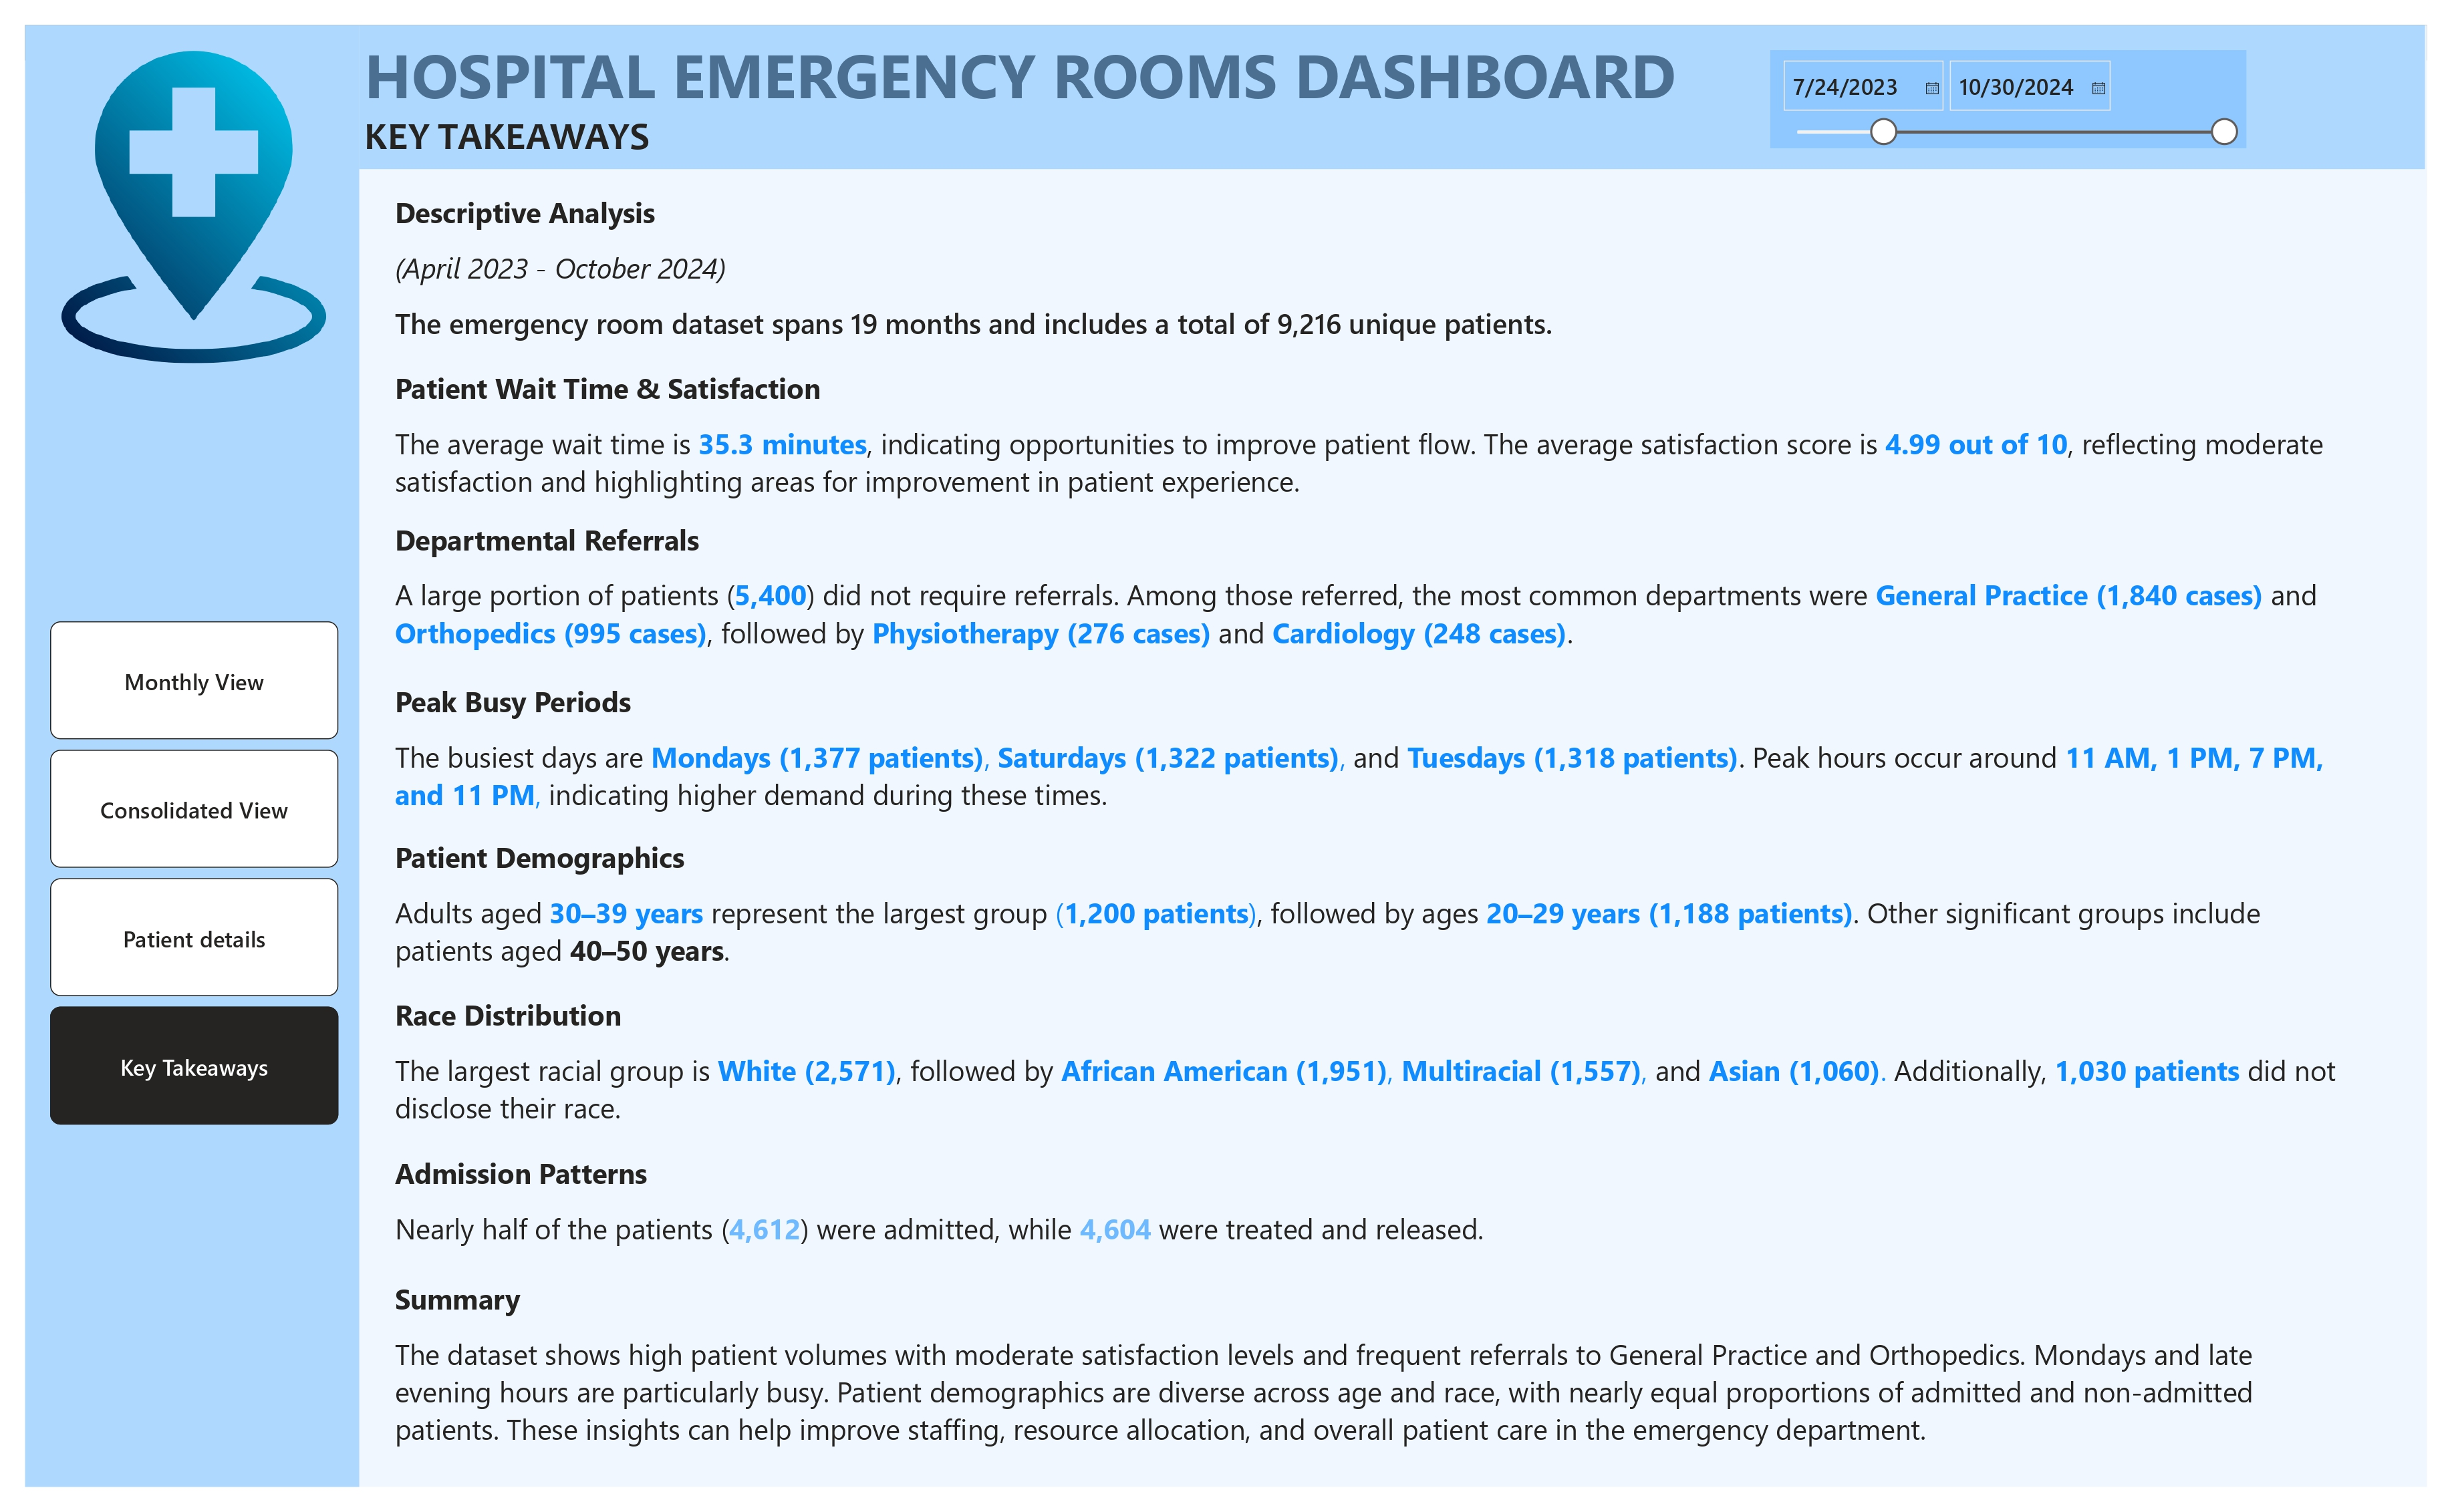

The page's visual inventory and layout, read from the dashboard file:
{"tool":"powerbi","page":{"name":"Key Takeaways","canvas":[2300,1400],"ordinal":3},"visuals":[{"type":"shape","box":[0,0,320,1400],"z":0},{"type":"textbox","box":[319.7,2.1,1289.2,137.9],"z":1000},{"type":"shape","box":[320,0,1977.8,137.8],"z":2000},{"type":"textbox","box":[320,77.8,397.8,62.2],"z":3000},{"type":"slicer","fields":{"Values":["Data Table.Date"]},"box":[1671.1,24.4,455.6,93.3],"z":4000},{"type":"image","box":[11.1,24.4,300,300],"z":5000},{"type":"textbox","box":[348.9,155.6,1871.1,168.9],"z":6000},{"type":"textbox","box":[348.9,324.4,1871.1,144.4],"z":7000},{"type":"textbox","box":[348.9,468.9,1871.1,140],"z":8000},{"type":"textbox","box":[348.9,624.4,1871.1,148.9],"z":9000},{"type":"textbox","box":[348.9,773.3,1871.1,151.1],"z":10000},{"type":"textbox","box":[348.9,924.4,1871.1,151.1],"z":11000},{"type":"textbox","box":[348.9,1075.6,1871.1,120],"z":12000},{"type":"textbox","box":[348.9,1195.6,1871.1,204.4],"z":13000},{"type":"pageNavigator","box":[24.4,571.1,275.6,482.2],"z":14000}]}

Visuals, with their boxes on the page's 2300x1400 design canvas (x1, y1, x2, y2). These are canvas units, not pixel positions in the 2452x1512 screenshot, which may show the page scaled, cropped or inside an application window:
shape: <box>0,0,320,1400</box>
textbox: <box>320,2,1609,140</box>
shape: <box>320,0,2298,138</box>
textbox: <box>320,78,718,140</box>
slicer - Data Table.Date: <box>1671,24,2127,118</box>
image: <box>11,24,311,324</box>
textbox: <box>349,156,2220,324</box>
textbox: <box>349,324,2220,469</box>
textbox: <box>349,469,2220,609</box>
textbox: <box>349,624,2220,773</box>
textbox: <box>349,773,2220,924</box>
textbox: <box>349,924,2220,1076</box>
textbox: <box>349,1076,2220,1196</box>
textbox: <box>349,1196,2220,1400</box>
pageNavigator: <box>24,571,300,1053</box>
